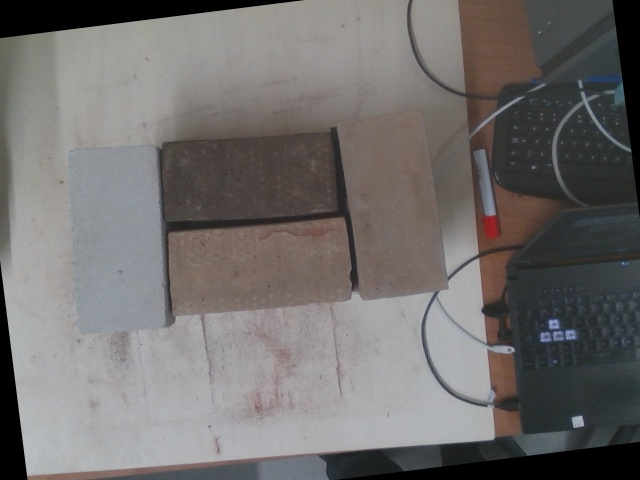brick: (338, 111, 447, 300), (69, 144, 165, 332), (169, 218, 348, 314), (158, 130, 336, 224)
